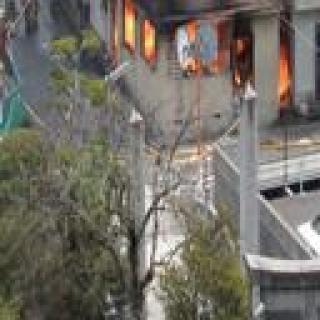fire: (77, 0, 300, 113)
